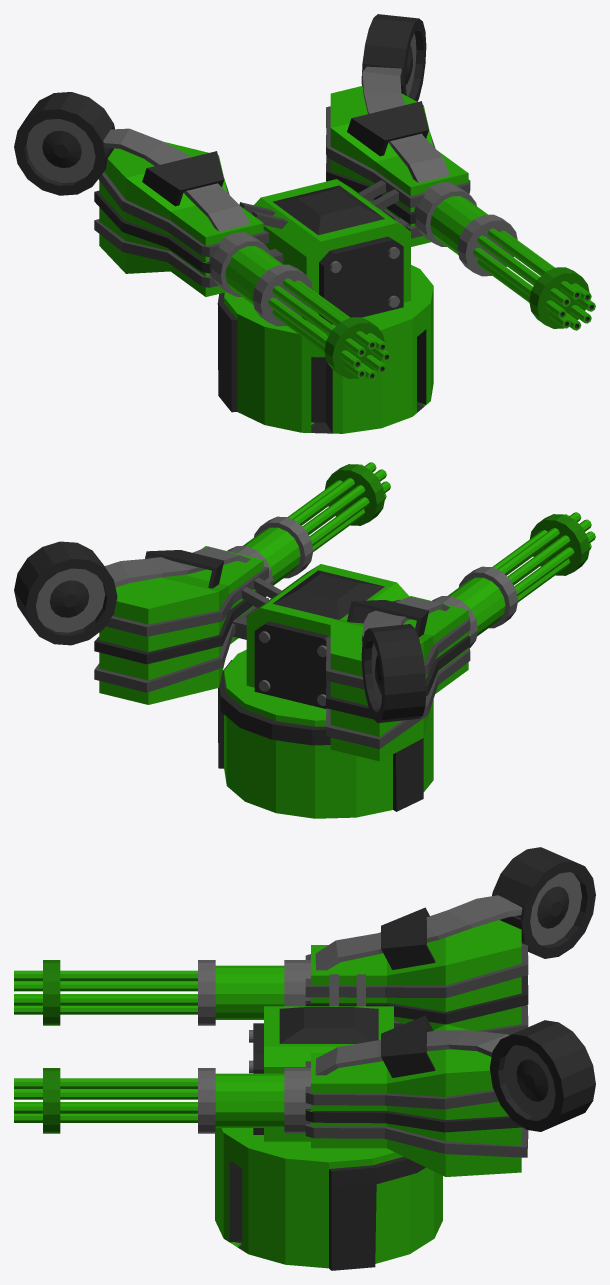
File: Cabina5.fbx
3 views of the same model, one above another, from view 1: azimuth 30°, elevation 25°; view 2: azimuth 150°, elevation 25°; view 3: azimuth 270°, elevation 25° (orthographic). The views are drawn at different scales.
Visible parts, largest first — view 1: Gun_25.001; view 2: Gun_25.001; view 3: Gun_25.001.
Part boxes in pixels (x1=…): Gun_25.001: x1=14, y1=14, x2=595, y2=433; Gun_25.001: x1=14, y1=462, x2=595, y2=818; Gun_25.001: x1=14, y1=847, x2=595, y2=1270.
Bounding box in the file's own units: 167 × 99.4 × 189.
